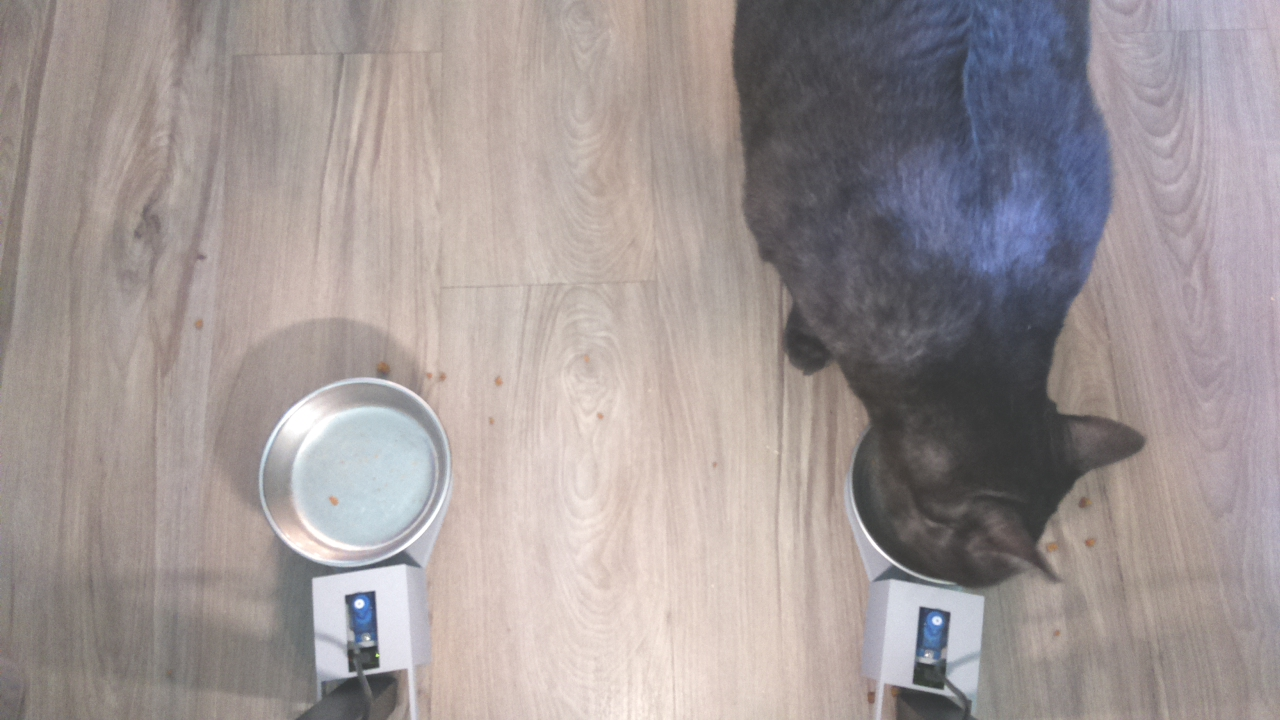open_bowl: (252, 370, 465, 585)
saki_eating: (836, 370, 1158, 598)
